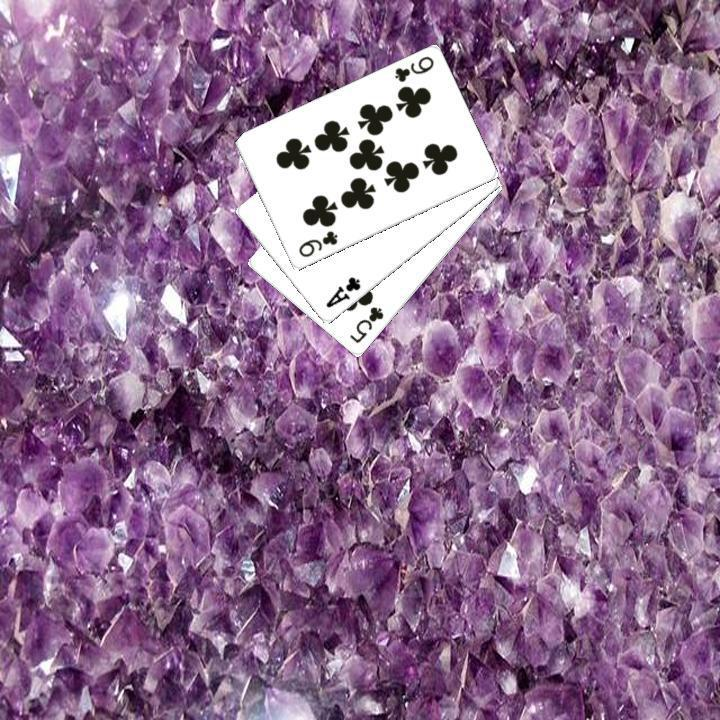5: (345, 302, 386, 346)
9: (294, 226, 340, 260), (390, 52, 436, 85)
A: (321, 272, 363, 310)
